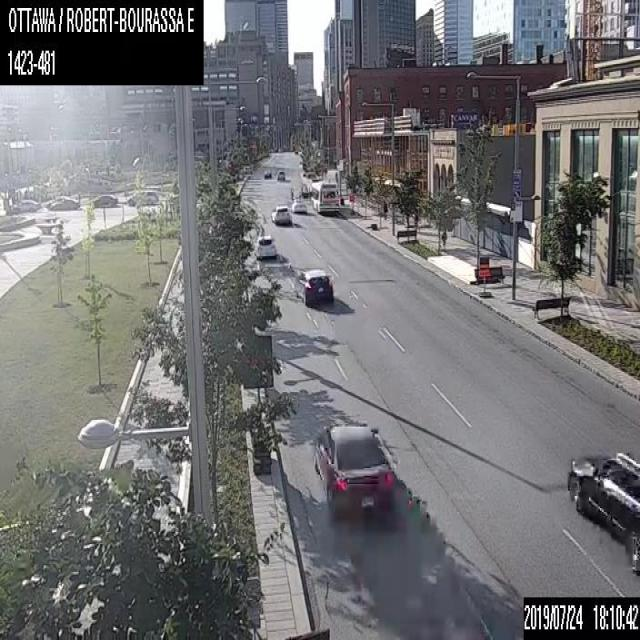bus: (310, 180, 338, 214)
construction: (237, 332, 276, 475), (477, 263, 490, 297), (348, 192, 354, 215)
vehicle: (566, 451, 639, 561), (312, 421, 394, 515), (294, 264, 334, 305), (253, 232, 275, 257), (47, 195, 79, 212), (127, 188, 160, 204), (88, 192, 116, 208), (12, 199, 39, 213), (272, 205, 290, 224), (291, 200, 306, 212), (276, 169, 284, 180), (262, 168, 271, 177)
